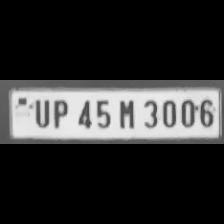0: (158, 98, 178, 127), (178, 97, 196, 127)
3: (139, 97, 159, 129)
4: (72, 97, 94, 129)
5: (92, 97, 112, 129)
6: (196, 96, 214, 128)
M: (114, 96, 138, 130)
P: (48, 97, 70, 129)
U: (30, 96, 50, 128)
